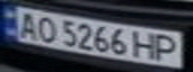2: (75, 20, 93, 52)
5: (54, 18, 78, 47)
6: (90, 24, 112, 54), (109, 26, 130, 56)
A: (12, 9, 42, 38)
H: (130, 29, 160, 61)
O: (33, 14, 60, 43)
P: (151, 33, 184, 62)
